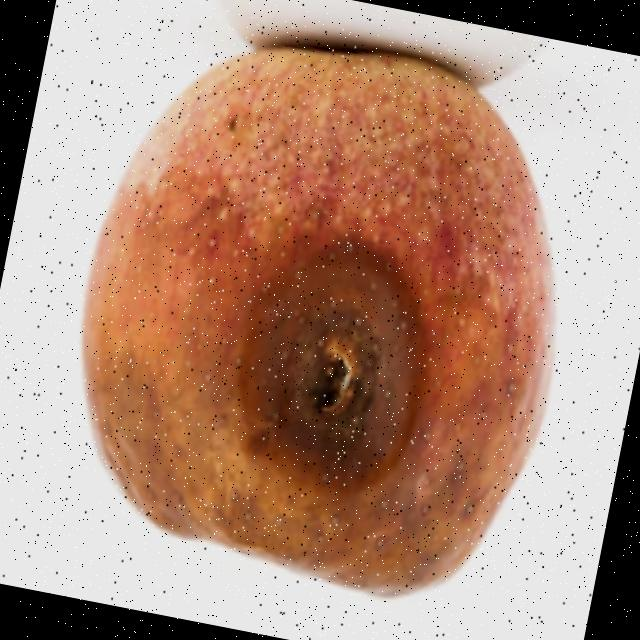Rotten: (34, 0, 604, 625)
